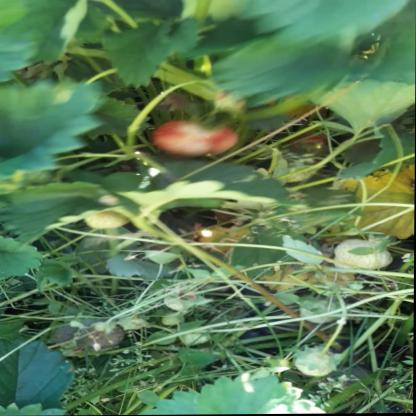unripe: (150, 115, 238, 159), (331, 234, 399, 275), (296, 298, 350, 325), (297, 349, 345, 377), (74, 322, 125, 348), (85, 201, 130, 229), (160, 286, 198, 313), (178, 327, 215, 350)
